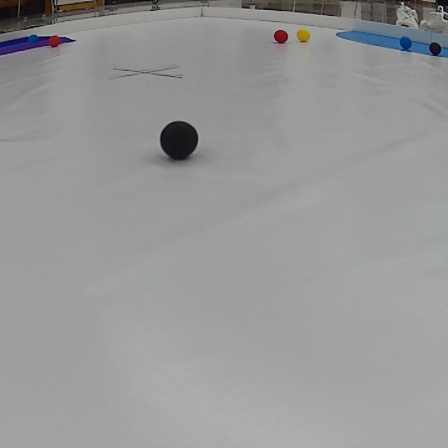black: (159, 122, 200, 159), (427, 40, 442, 56)
blue: (397, 34, 417, 50), (28, 34, 41, 44)
blue_aim: (0, 33, 75, 58)
blue_base: (335, 27, 448, 60)
red: (271, 27, 287, 42), (46, 34, 62, 46)
yellow: (296, 28, 309, 43)
